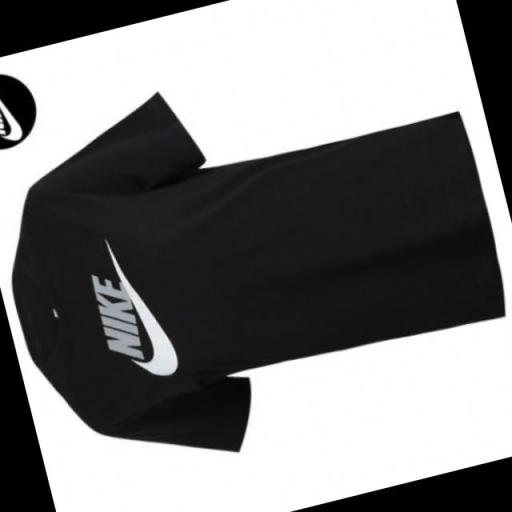Nike: (114, 250, 180, 380), (89, 266, 146, 367)
